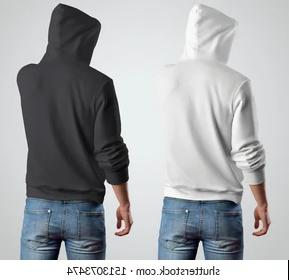sweater: (16, 3, 132, 199), (155, 3, 267, 204)
trousers: (157, 195, 244, 262), (19, 195, 107, 260)
